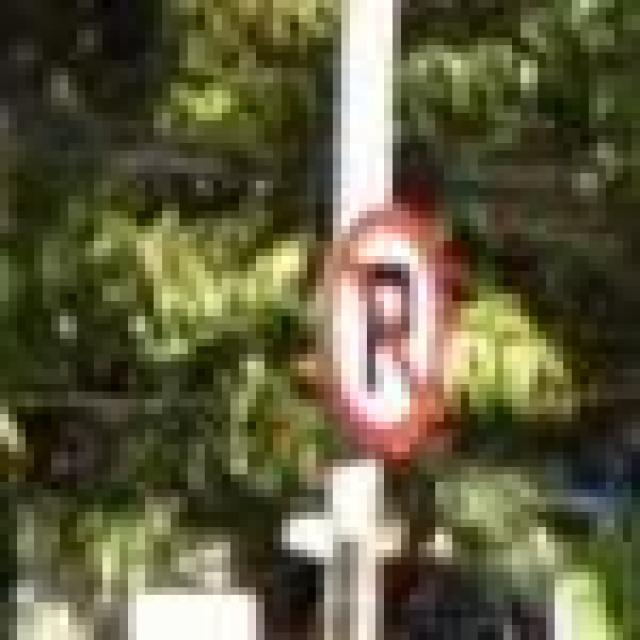traffic sign: (324, 203, 444, 452)
